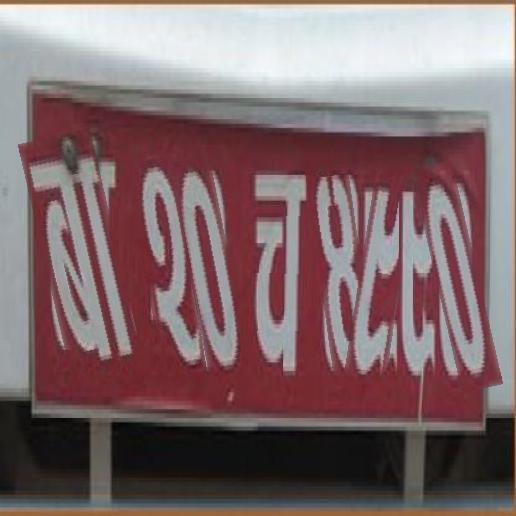0: (424, 161, 491, 393), (178, 156, 241, 377)
2: (136, 149, 199, 386)
4: (311, 162, 370, 385)
9: (352, 162, 411, 385), (399, 159, 438, 385)
ba: (32, 131, 131, 374)
cha: (248, 158, 309, 388)
